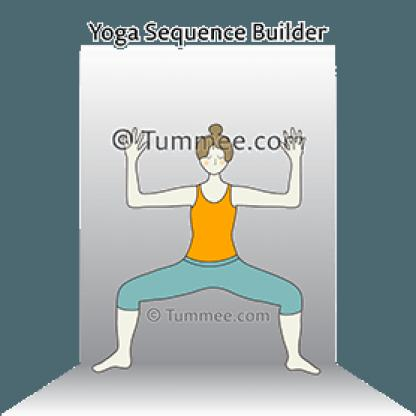godness: (84, 114, 340, 384)
